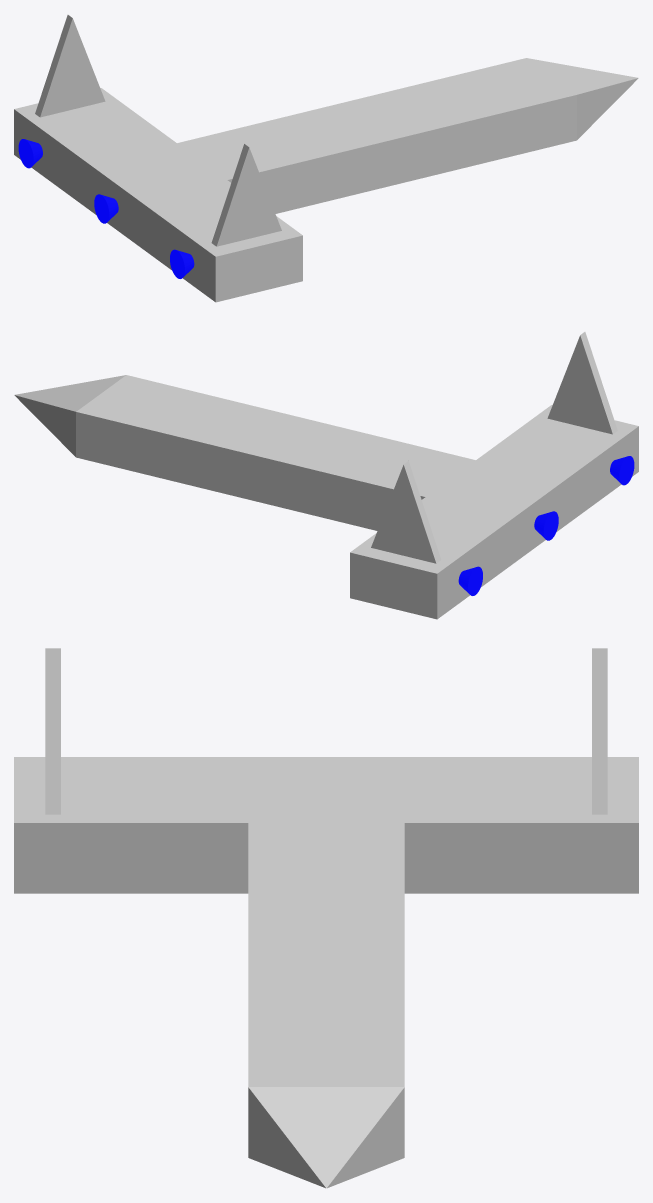
File: cruiser.glb
3 renders of one model, top to bottom at view 1: azimuth 30°, elevation 25°; view 2: azimuth 150°, elevation 25°; view 3: azimuth 270°, elevation 25°, orthographic. The views are drawn at different scales.
Visible parts, largest first — view 1: Body, Body.001, 尾翼, 尾翼.001, 金字塔, Engine, EngineLeft, EngineRight; view 2: Body, Body.001, 尾翼.001, 尾翼, 金字塔, Engine, EngineRight, EngineLeft; view 3: Body.001, Body, 金字塔, 尾翼, 尾翼.001.
Part boxes in pixels (x1,y1,x2,y2): Body: (177, 58, 576, 213); Body.001: (14, 88, 302, 302); 尾翼: (35, 15, 105, 117); 尾翼.001: (211, 144, 281, 246); 金字塔: (527, 58, 638, 139); Engine: (94, 194, 118, 223); EngineLeft: (18, 139, 42, 168); EngineRight: (170, 249, 194, 278); Body: (76, 375, 475, 530); Body.001: (350, 405, 638, 619); 尾翼.001: (547, 332, 617, 434); 尾翼: (371, 461, 441, 563); 金字塔: (14, 375, 125, 456); Engine: (534, 511, 558, 540); EngineRight: (610, 456, 634, 485); EngineLeft: (458, 566, 482, 595); Body.001: (14, 757, 638, 893); Body: (248, 823, 404, 1086); 金字塔: (248, 1087, 404, 1188); 尾翼: (592, 648, 607, 814); 尾翼.001: (45, 648, 60, 814).
Bounding box in the file's own units: 12.3 × 3 × 8.
